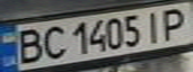0: (103, 15, 127, 51)
1: (66, 19, 90, 55)
4: (87, 17, 109, 54)
5: (121, 11, 148, 47)
B: (9, 26, 48, 65)
C: (36, 22, 69, 61)
I: (139, 8, 169, 43)
P: (157, 4, 193, 40)
